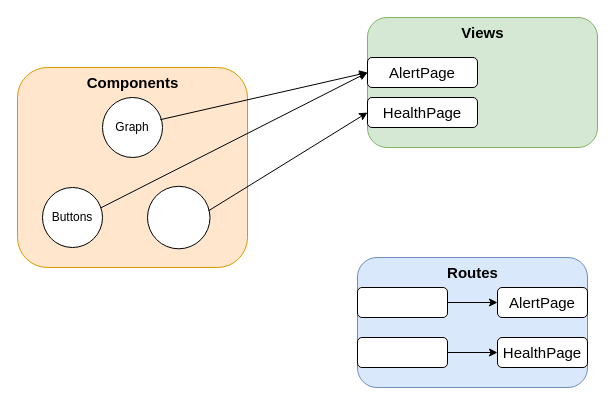
Image size: 615x405. Some labels were removed from this diagram. Each missing label, with the box of its shape:
/alerts: (356, 286, 448, 318)
/health: (356, 336, 448, 368)
Grid: (146, 185, 210, 249)
